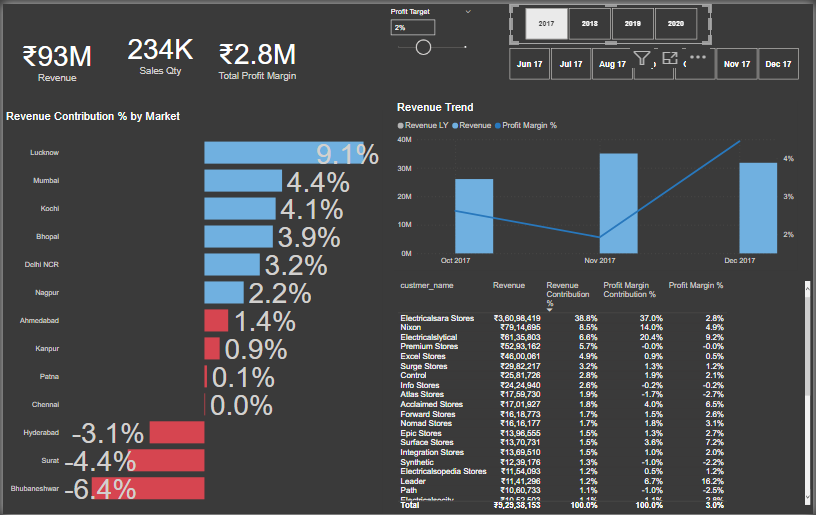

What the dashboard file says about the page in this screenshot:
{"tool":"powerbi","page":{"name":"Profit Analysis","canvas":[1350,850],"ordinal":1},"visuals":[{"type":"card","fields":{"Values":["BaseMeasures (2).Revenue"]},"box":[0,0,179.6,184.8],"z":0},{"type":"card","fields":{"Values":["BaseMeasures (2).Sales Qty"]},"box":[179.6,0,164.1,193],"z":1000},{"type":"barChart","title":"Profit % by market","fields":{"Y":["BaseMeasures (2).Profit Margin %"],"Category":["sales markets.markets_name"]},"box":[464.5,184.8,230.2,664.8],"z":2000},{"type":"barChart","title":"Profit Contribution % by Market","fields":{"Y":["BaseMeasures (2).Profit Margin Contribution %"],"Category":["sales markets.markets_name"]},"box":[221.9,185.8,208.5,659.6],"z":3000},{"type":"slicer","fields":{"Values":["sales date.year"]},"box":[483.2,0,335.5,66.5],"z":4000},{"type":"slicer","fields":{"Values":["sales date.cy_date"]},"box":[818.6,0,531.7,66.5],"z":5000},{"type":"tableEx","title":"Top 5 Customers","fields":{"Values":["sales customers.custmer_name","BaseMeasures (2).Revenue","BaseMeasures (2).Revenue Contribution %","BaseMeasures (2).Profit Margin Contribution %","BaseMeasures (2).Profit Margin %"]},"box":[701.9,454.2,648.3,395.4],"z":6000},{"type":"lineChart","title":"Revenue Trend","fields":{"Y":["BaseMeasures (2).Revenue"],"Category":["sales date.cy_date"]},"box":[701.9,104.3,621.4,338.6],"z":7000},{"type":"card","fields":{"Values":["BaseMeasures (2).Total Profit Margin"]},"box":[349.9,0,161,176.5],"z":8000},{"type":"barChart","title":"Revenue Contribution % by Market","fields":{"Y":["BaseMeasures (2).Revenue Contribution %"],"Category":["sales markets.markets_name"]},"box":[0,185.8,219.9,654.5],"z":9000}]}

Visuals, with their boxes in screenshot pixels (x1, y1, x2, y2), scaled from the page's 1350x850 canvas onto the 816x515 screenshot:
card - BaseMeasures (2).Revenue: box=[0, 0, 109, 112]
card - BaseMeasures (2).Sales Qty: box=[109, 0, 208, 117]
"Profit % by market" barChart: box=[281, 112, 420, 514]
"Profit Contribution % by Market" barChart: box=[134, 113, 260, 512]
slicer - sales date.year: box=[292, 0, 495, 40]
slicer - sales date.cy_date: box=[495, 0, 815, 40]
"Top 5 Customers" tableEx: box=[424, 275, 815, 514]
"Revenue Trend" lineChart: box=[424, 63, 800, 268]
card - BaseMeasures (2).Total Profit Margin: box=[211, 0, 309, 107]
"Revenue Contribution % by Market" barChart: box=[0, 113, 133, 509]
